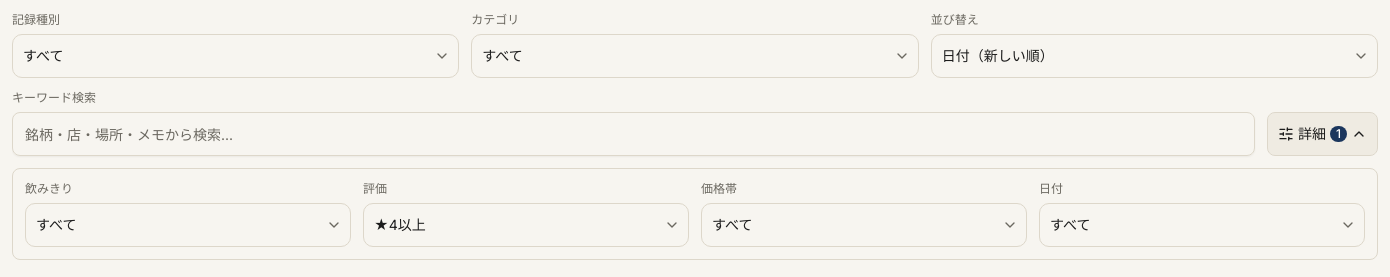
詳細フィルタの折りたたみ › 条件を残したまま畳める（開いた状態で固定しない）
Click the button with test id "filter-advanced-toggle" at (1322, 134), box [1267, 112, 1378, 156]
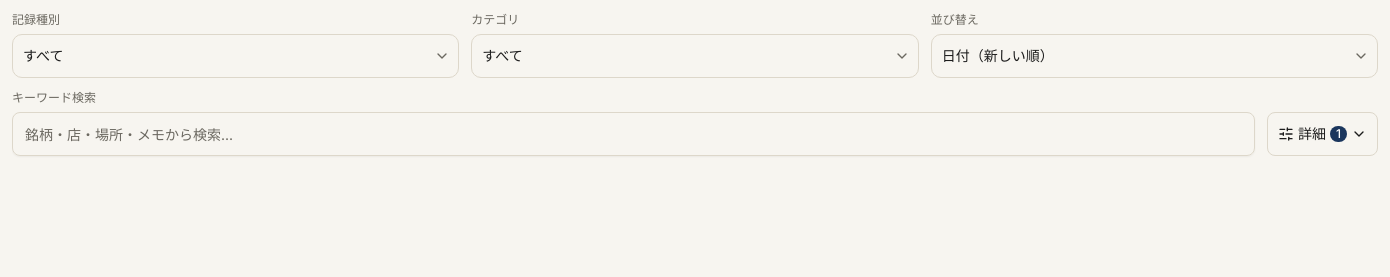
Check: the text with test id "filter-advanced-count" reads "1", box [1336, 126, 1341, 141]
Check: the button with test id "filter-advanced-toggle" is collapsed, box [1267, 112, 1378, 156]
Check: the dropdown with test id "filter-rating" is gone
